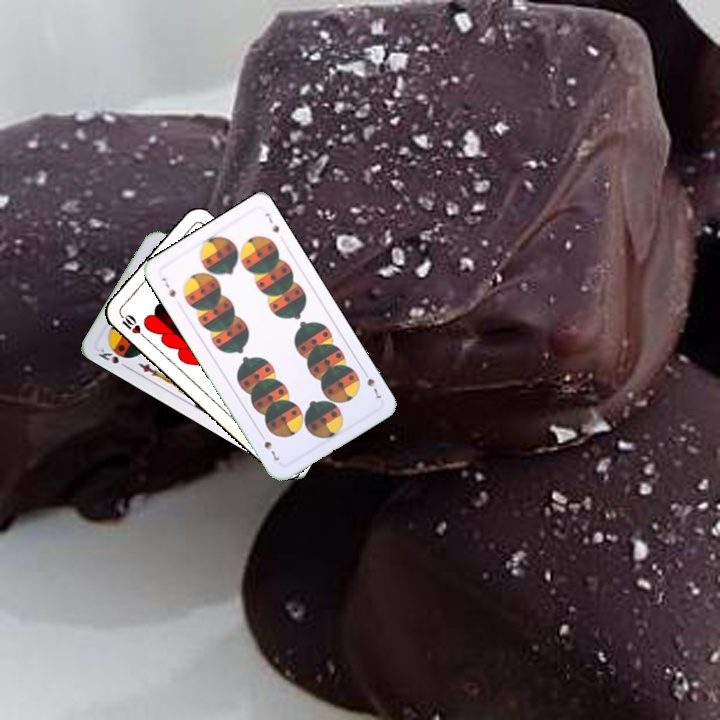H10: (115, 309, 148, 341)
S7: (359, 366, 385, 403), (157, 273, 178, 300)
SK: (94, 344, 131, 371)
